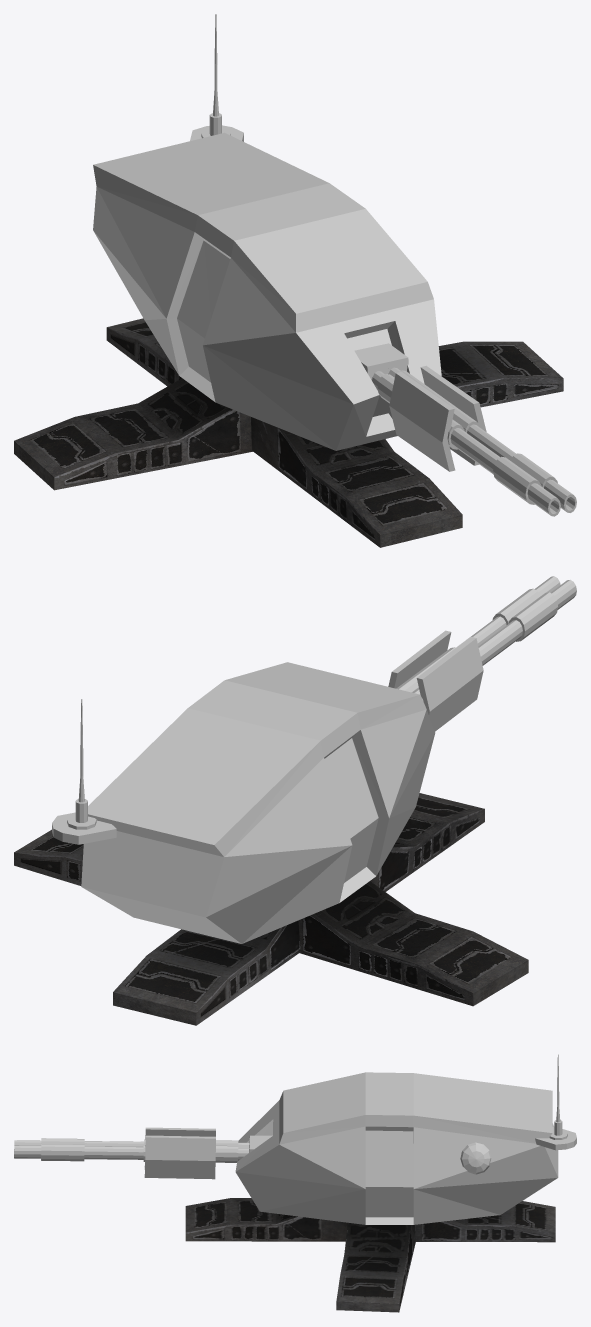
Rendered from anti_armoured_car.dae.
The picture shows the model from 3 angles, top to bottom: view 1: azimuth 30°, elevation 25°; view 2: azimuth 150°, elevation 25°; view 3: azimuth 270°, elevation 25°; orthographic projection. The views are drawn at different scales.
Visible parts, largest first — view 1: Mesh_Object_2, Mesh_Object, Mesh_Object_3; view 2: Mesh_Object_2, Mesh_Object, Mesh_Object_3; view 3: Mesh_Object_2, Mesh_Object, Mesh_Object_3.
Part boxes in pixels (x1,y1,x2,y2): Mesh_Object_2: [93, 14, 441, 450]; Mesh_Object: [14, 318, 563, 547]; Mesh_Object_3: [354, 343, 576, 516]; Mesh_Object_2: [52, 662, 435, 943]; Mesh_Object: [14, 793, 528, 1025]; Mesh_Object_3: [388, 576, 576, 731]; Mesh_Object_2: [235, 1054, 576, 1224]; Mesh_Object: [185, 1198, 555, 1312]; Mesh_Object_3: [14, 1127, 272, 1179].
Bounding box in the file's own units: 1.89 × 1.11 × 2.84.
